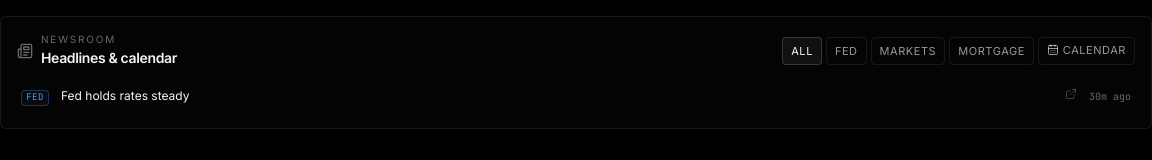
Test: NewsPanel › loads missing headlines and calendar from the dedicated endpoints
Check: the link "Fed holds rates steady" is shown, box x1=61 y1=88 x2=190 y2=103
Click the button "Calendar".
click(1086, 51)  # box x1=1038 y1=37 x2=1135 y2=65
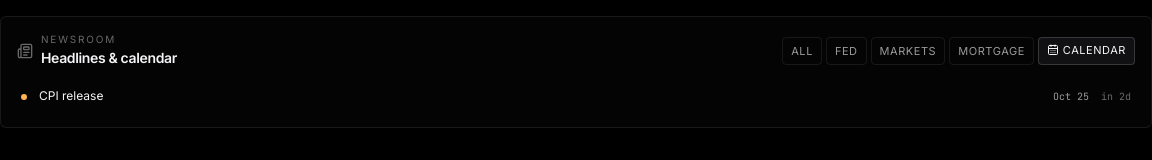
Check: the text "CPI release" is shown, box x1=39 y1=88 x2=103 y2=103
